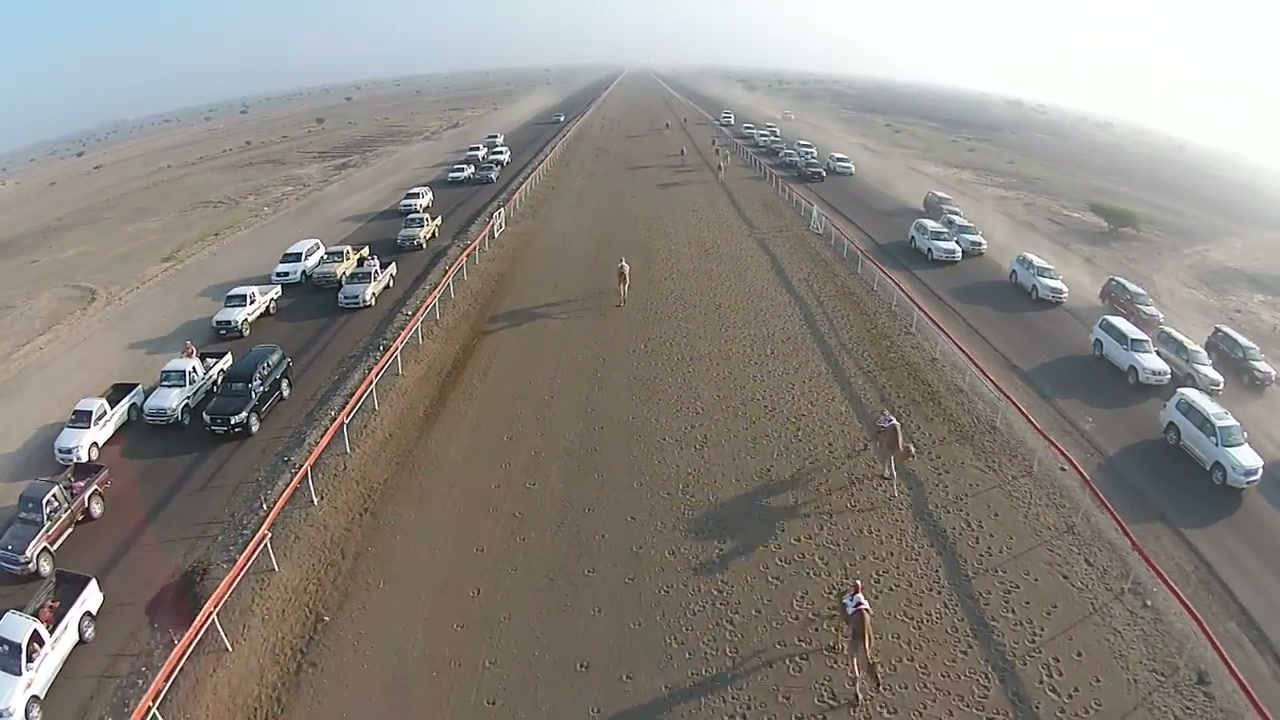animal_footprint: (728, 492, 1077, 719)
